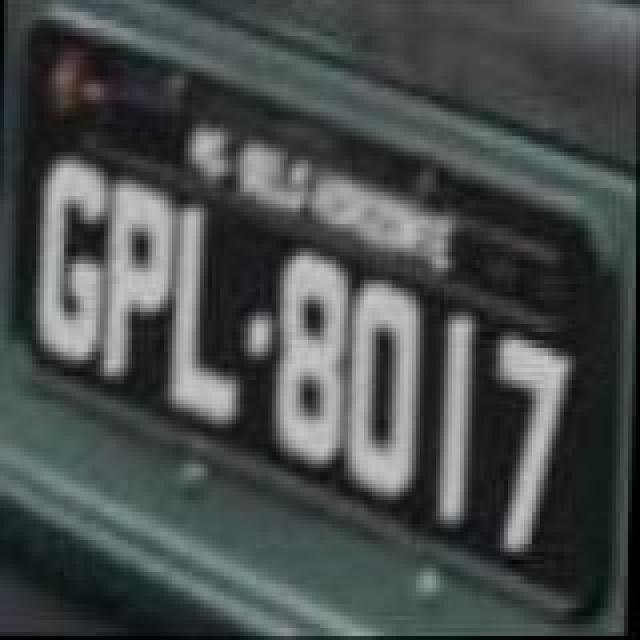1: (432, 312, 484, 536)
7: (490, 328, 582, 560)
8: (270, 244, 354, 472)
G: (28, 154, 112, 366)
L: (162, 200, 246, 432)
O: (342, 278, 430, 506)
P: (100, 176, 180, 384)
